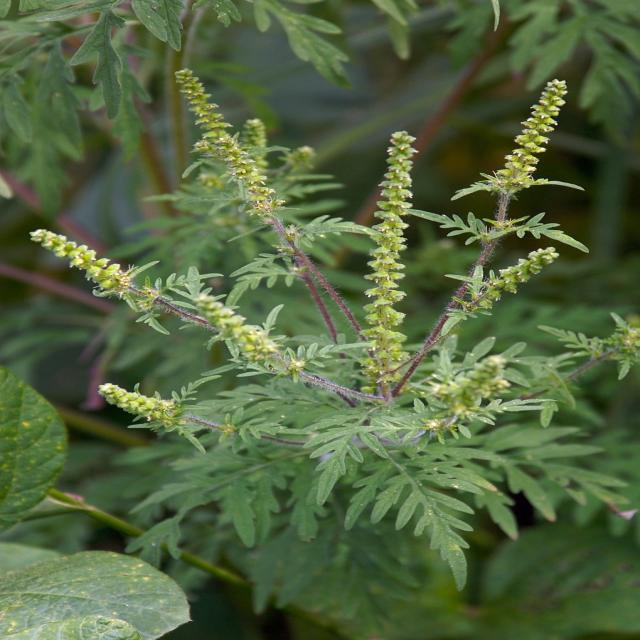ambrosia: (11, 226, 518, 470), (471, 50, 640, 305), (121, 56, 317, 255), (341, 114, 457, 393)
